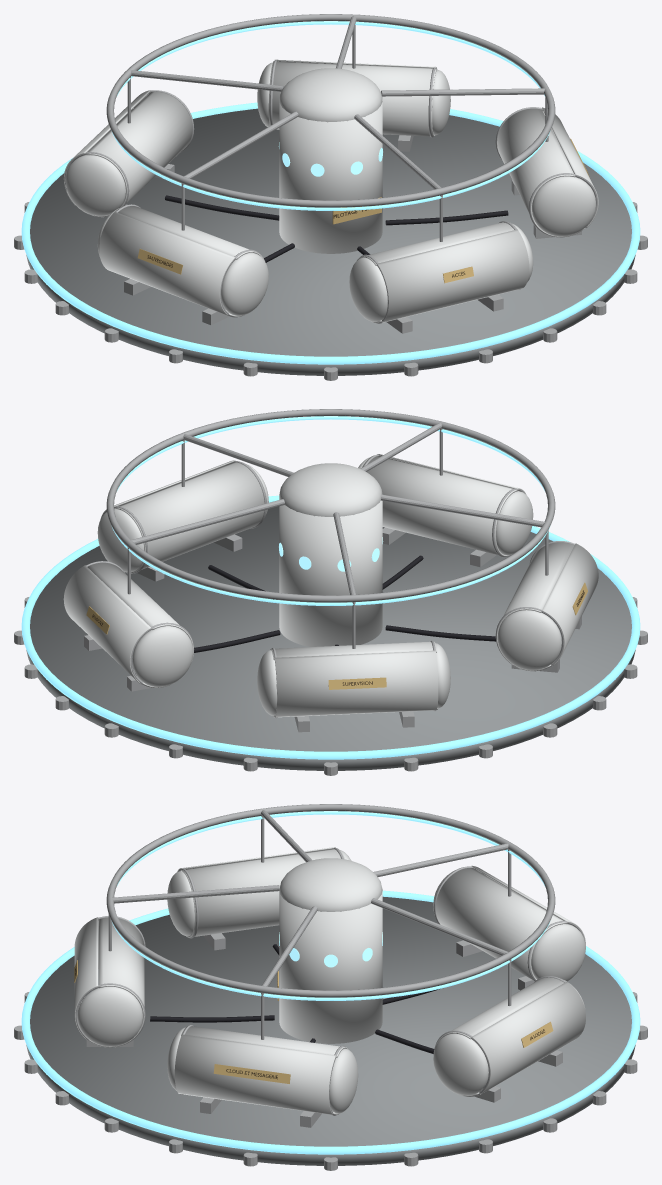
The model's file is manege.glb.
3 renders of one model, top to bottom at view 1: azimuth 30°, elevation 25°; view 2: azimuth 150°, elevation 25°; view 3: azimuth 270°, elevation 25°, orthographic.
Parts seen in each view (by area): view 1: Plateau, Tour, Torus.001, Rideau, Torus.002, Rideau.004, Coque.003, Coque.002, DomeTour, Coque.001, Torus.003, Fond.002 (+15 smaller); view 2: Plateau, Tour, Rideau.003, Torus.001, Torus.002, Coque.001, Coque, DomeTour, Rideau.002, Torus.003, Fond.008, Fond.005 (+15 smaller); view 3: Plateau, Tour, Rideau.001, Torus.001, Torus.002, Coque.003, Coque.004, Rideau.002, DomeTour, Torus.003, Fond.001, Coque (+13 smaller).
Part boxes in pixels (x1,y1,x2,y2): Plateau: (26, 108, 635, 375); Tour: (279, 99, 382, 253); Torus.001: (21, 102, 640, 364); Rideau: (377, 229, 529, 322); Torus.002: (106, 14, 555, 207); Rideau.004: (99, 211, 235, 315); Coque.003: (83, 91, 193, 216); Coque.002: (268, 61, 436, 136); DomeTour: (279, 68, 382, 122); Coque.001: (497, 108, 584, 237); Torus.003: (112, 21, 549, 210); Fond.002: (532, 176, 595, 236); Plateau: (26, 506, 635, 770); Tour: (279, 494, 382, 646); Rideau.003: (274, 650, 438, 717); Torus.001: (21, 495, 640, 759); Torus.002: (106, 409, 555, 602); Coque.001: (114, 462, 267, 573); Coque: (362, 455, 518, 556); DomeTour: (279, 463, 382, 516); Rideau.002: (63, 565, 151, 684); Torus.003: (112, 416, 549, 605); Fond.008: (497, 610, 561, 670); Fond.005: (132, 626, 193, 686); Plateau: (26, 896, 635, 1165); Tour: (279, 887, 382, 1043); Rideau.001: (174, 1034, 335, 1114); Torus.001: (21, 890, 640, 1154); Torus.002: (106, 804, 555, 997); Coque.003: (433, 867, 566, 980); Coque.004: (181, 848, 344, 937); Rideau.002: (471, 981, 585, 1094); DomeTour: (279, 858, 382, 911); Torus.003: (112, 811, 549, 1000); Fond.001: (77, 986, 142, 1046); Coque: (88, 917, 144, 1047).
Bounding box in the file's own units: 27 × 8 × 27.
